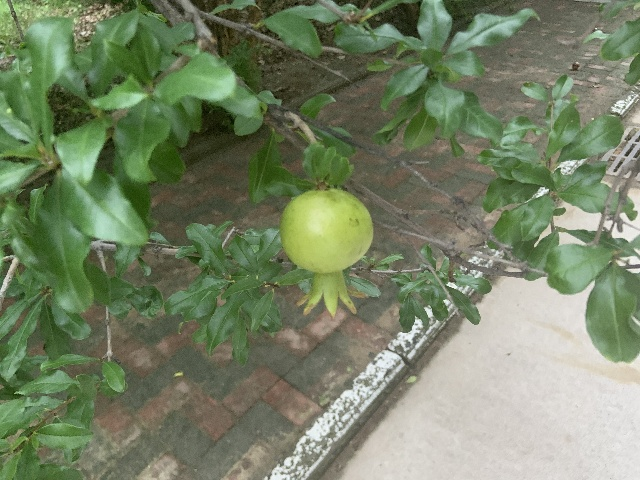mid-growth: (279, 187, 374, 317)
